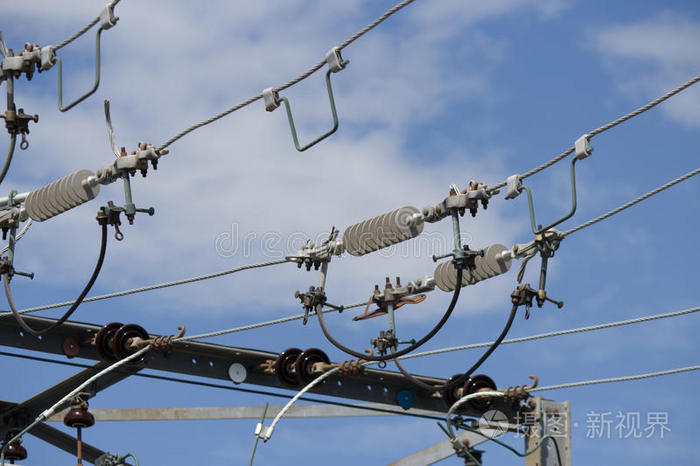insulator: (433, 243, 518, 292), (341, 203, 421, 255), (24, 168, 98, 219)
